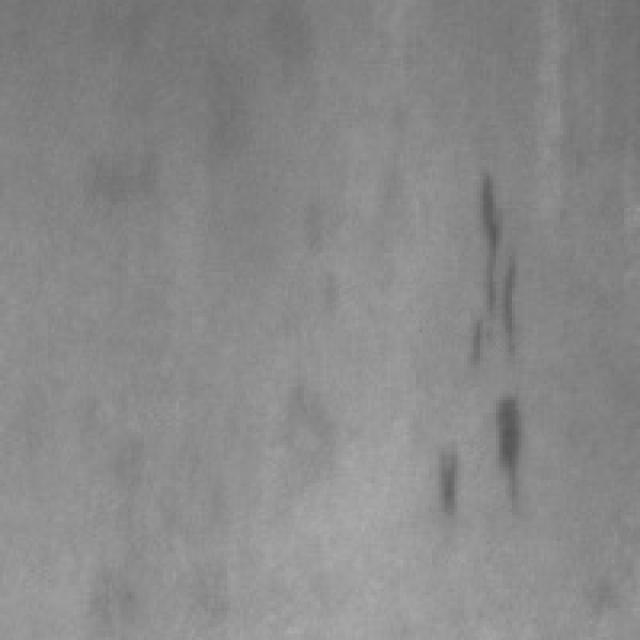inclusion: (451, 156, 528, 378), (477, 387, 531, 522), (419, 436, 461, 534)
